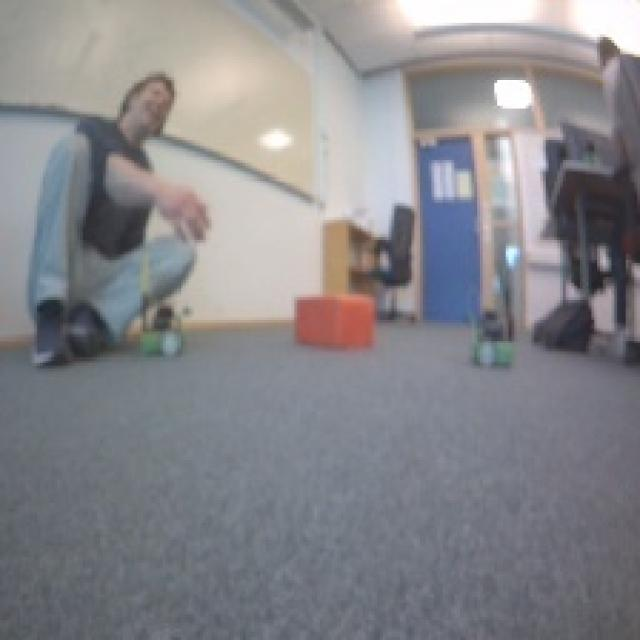robot: (137, 300, 189, 358), (469, 313, 518, 368)
target: (292, 288, 377, 348)
